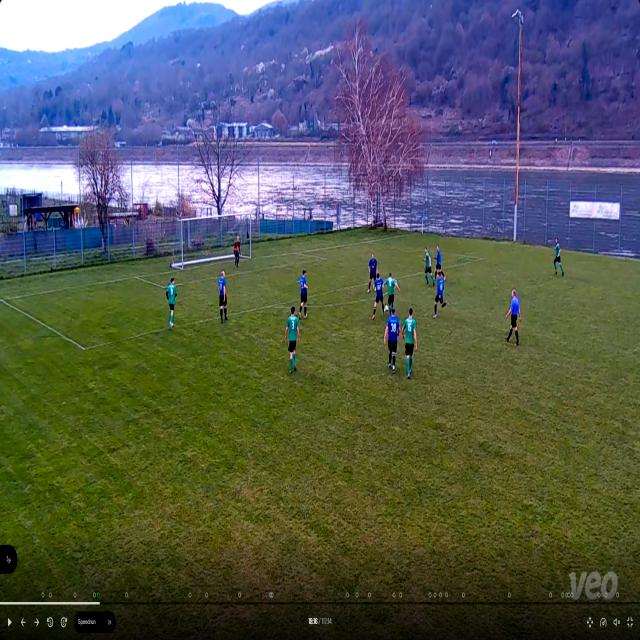bigarea_bottom_inner: (79, 334, 92, 362)
bigarea_top_inner: (478, 253, 488, 264)
bigarea_top_outter: (363, 236, 373, 247)
bottom_arc_area_intersection: (266, 302, 279, 313)
smallarea_bottom_inner: (162, 282, 166, 290)
smallarea_bottom_outter: (133, 270, 140, 284)
smallarea_top_inner: (323, 253, 334, 264)
smallarea_top_outter: (291, 247, 298, 259)
